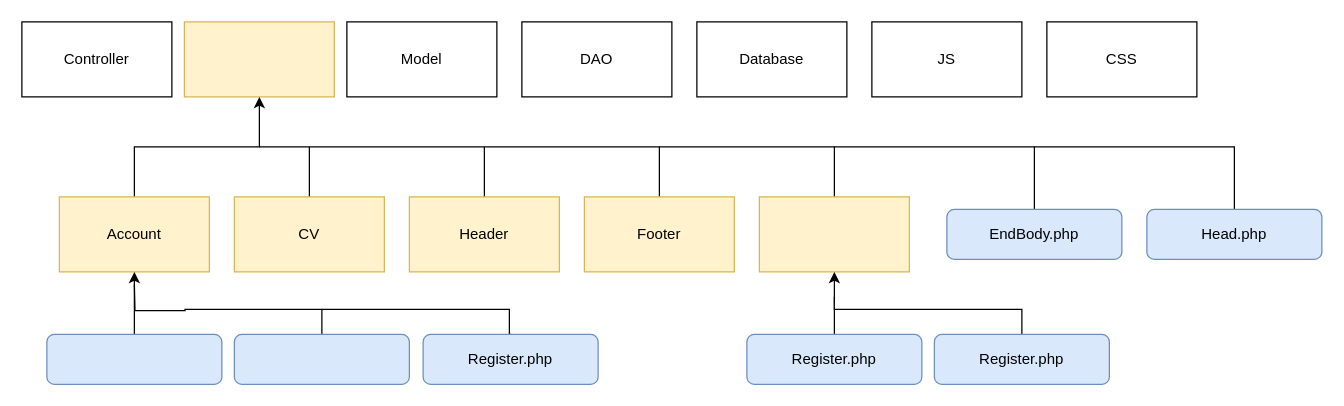
Some shapes in this 1344 by 406 pixel diagram are drawn without their labels. The box of each missing label's shape, as (x1, y1, x2, y2) in pixels:
Account.php: (46, 333, 222, 384)
Error: (758, 196, 909, 272)
Login.php: (233, 333, 409, 384)
View: (183, 21, 334, 97)
